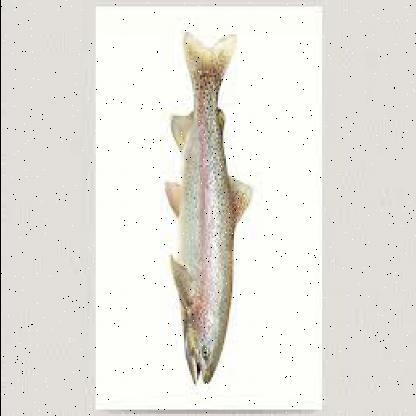fish: (166, 31, 254, 384)
